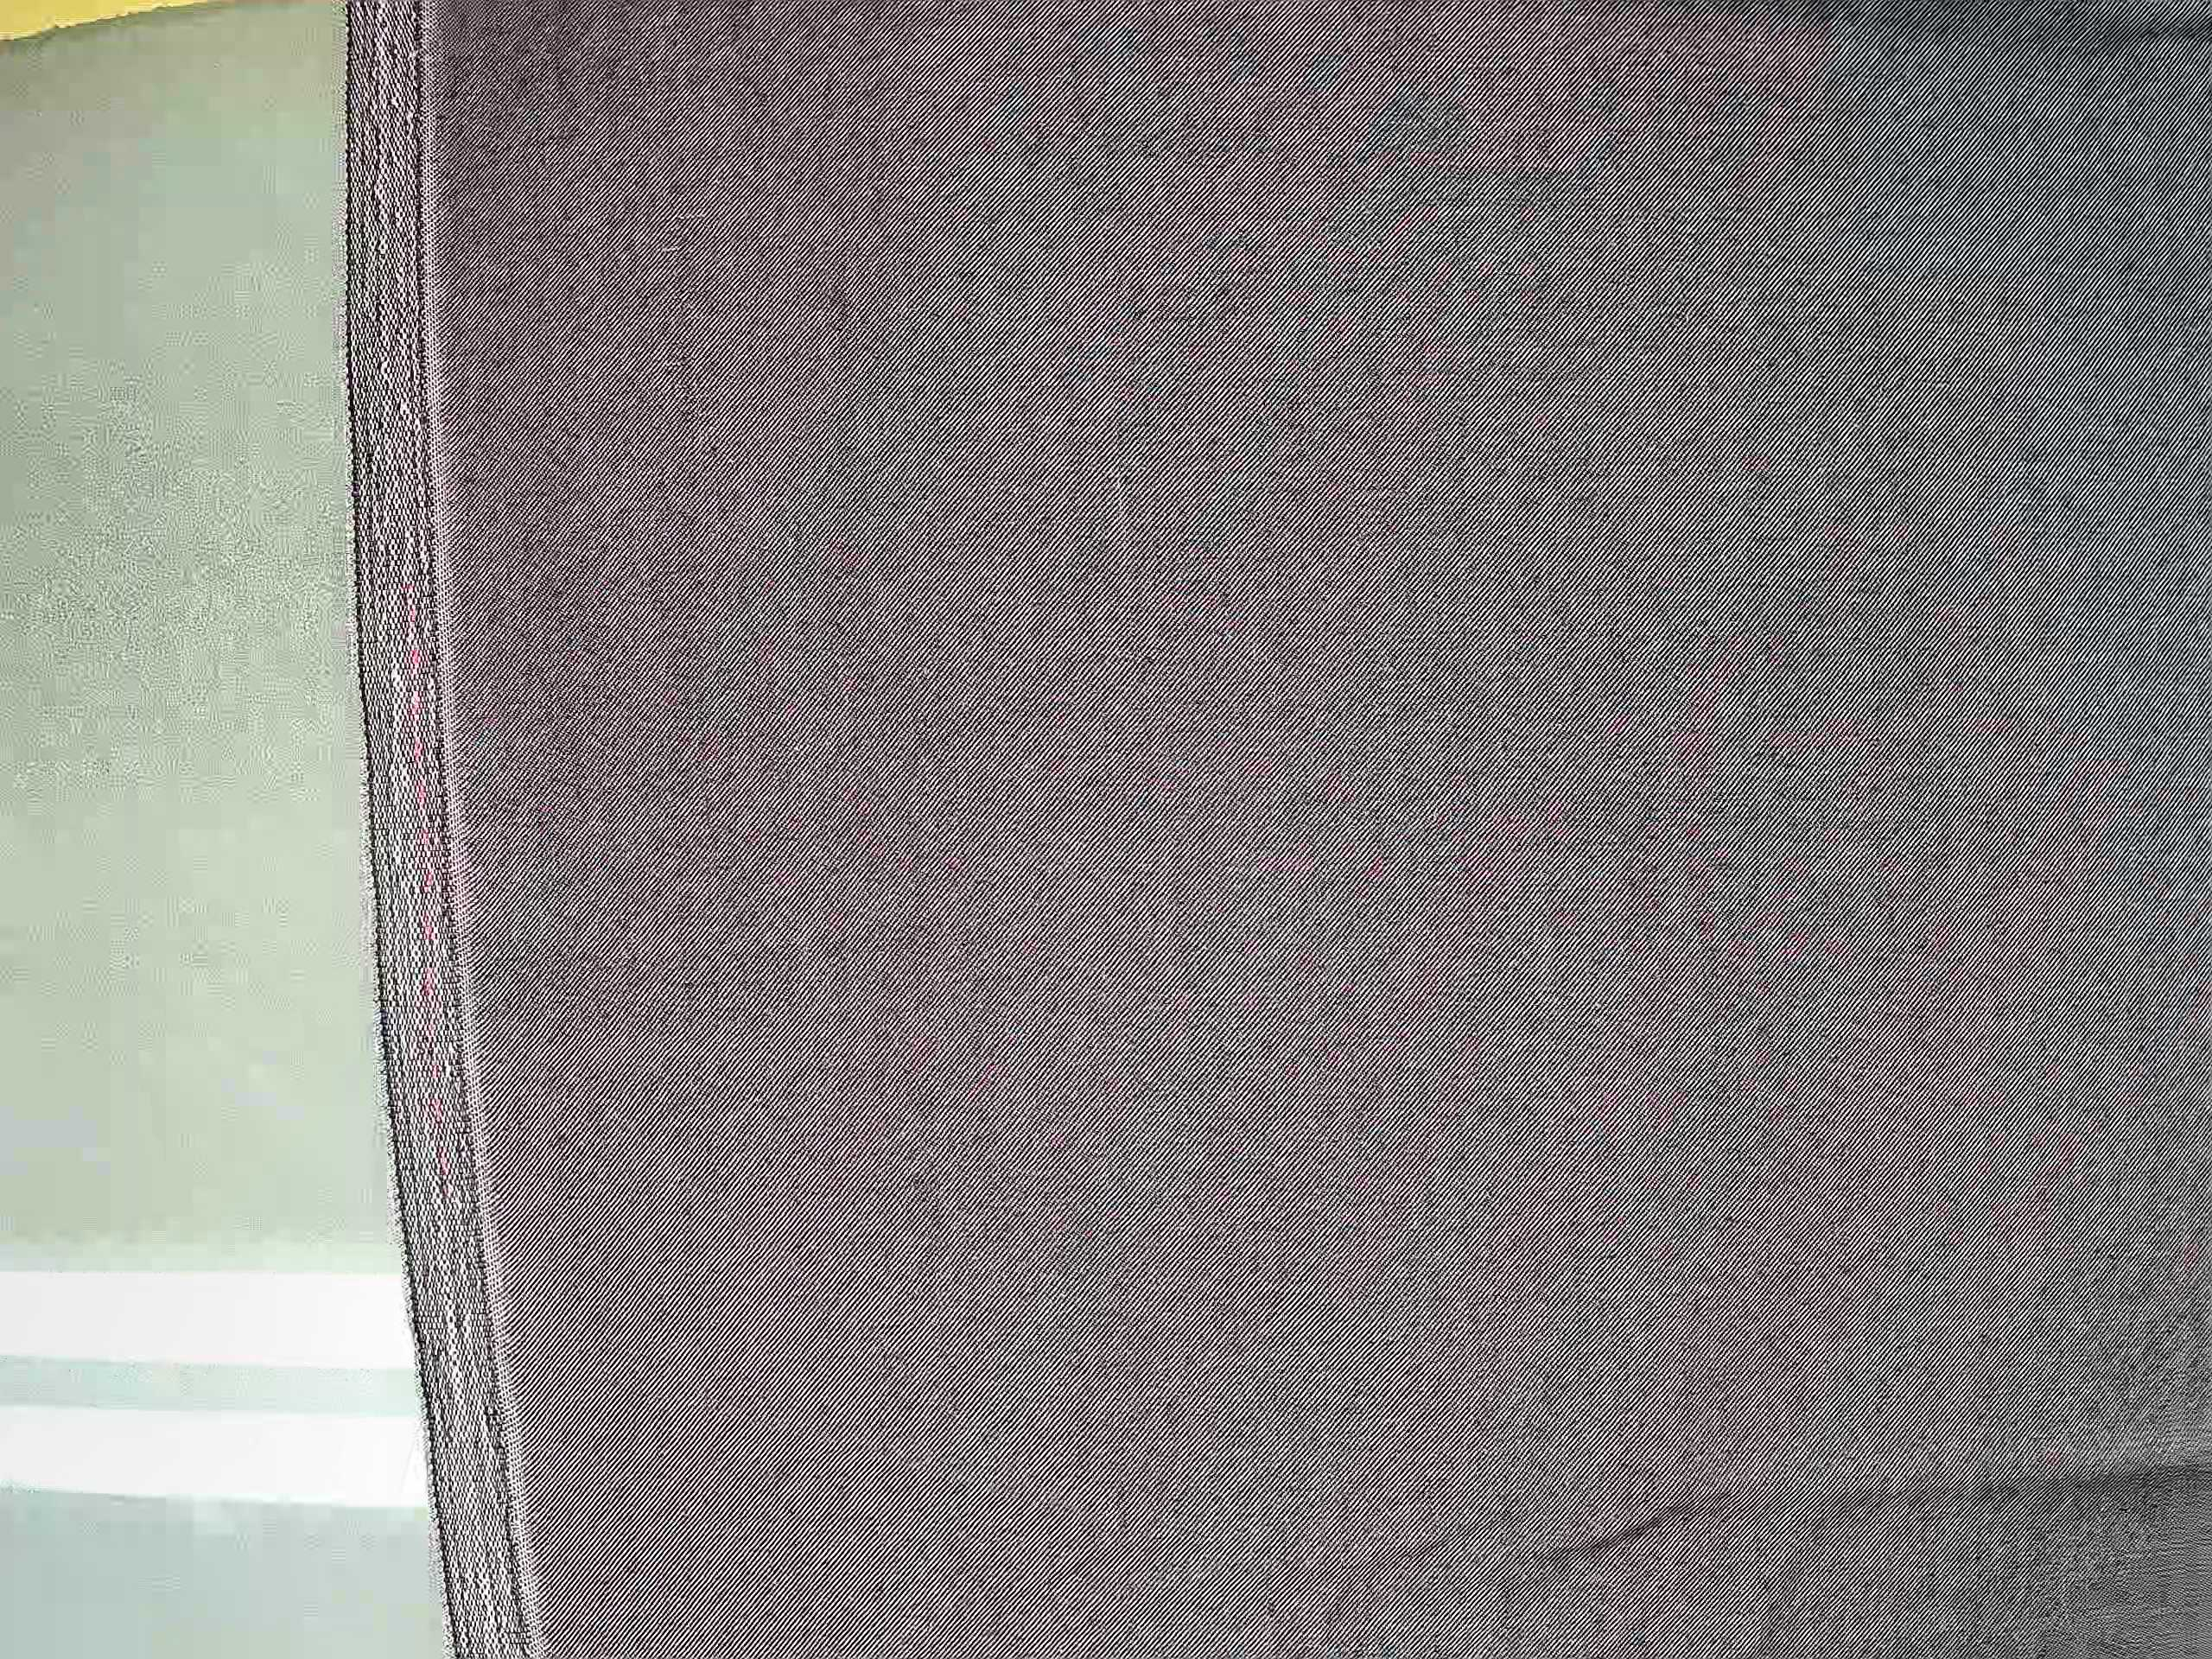jumps: (645, 192, 715, 393)
